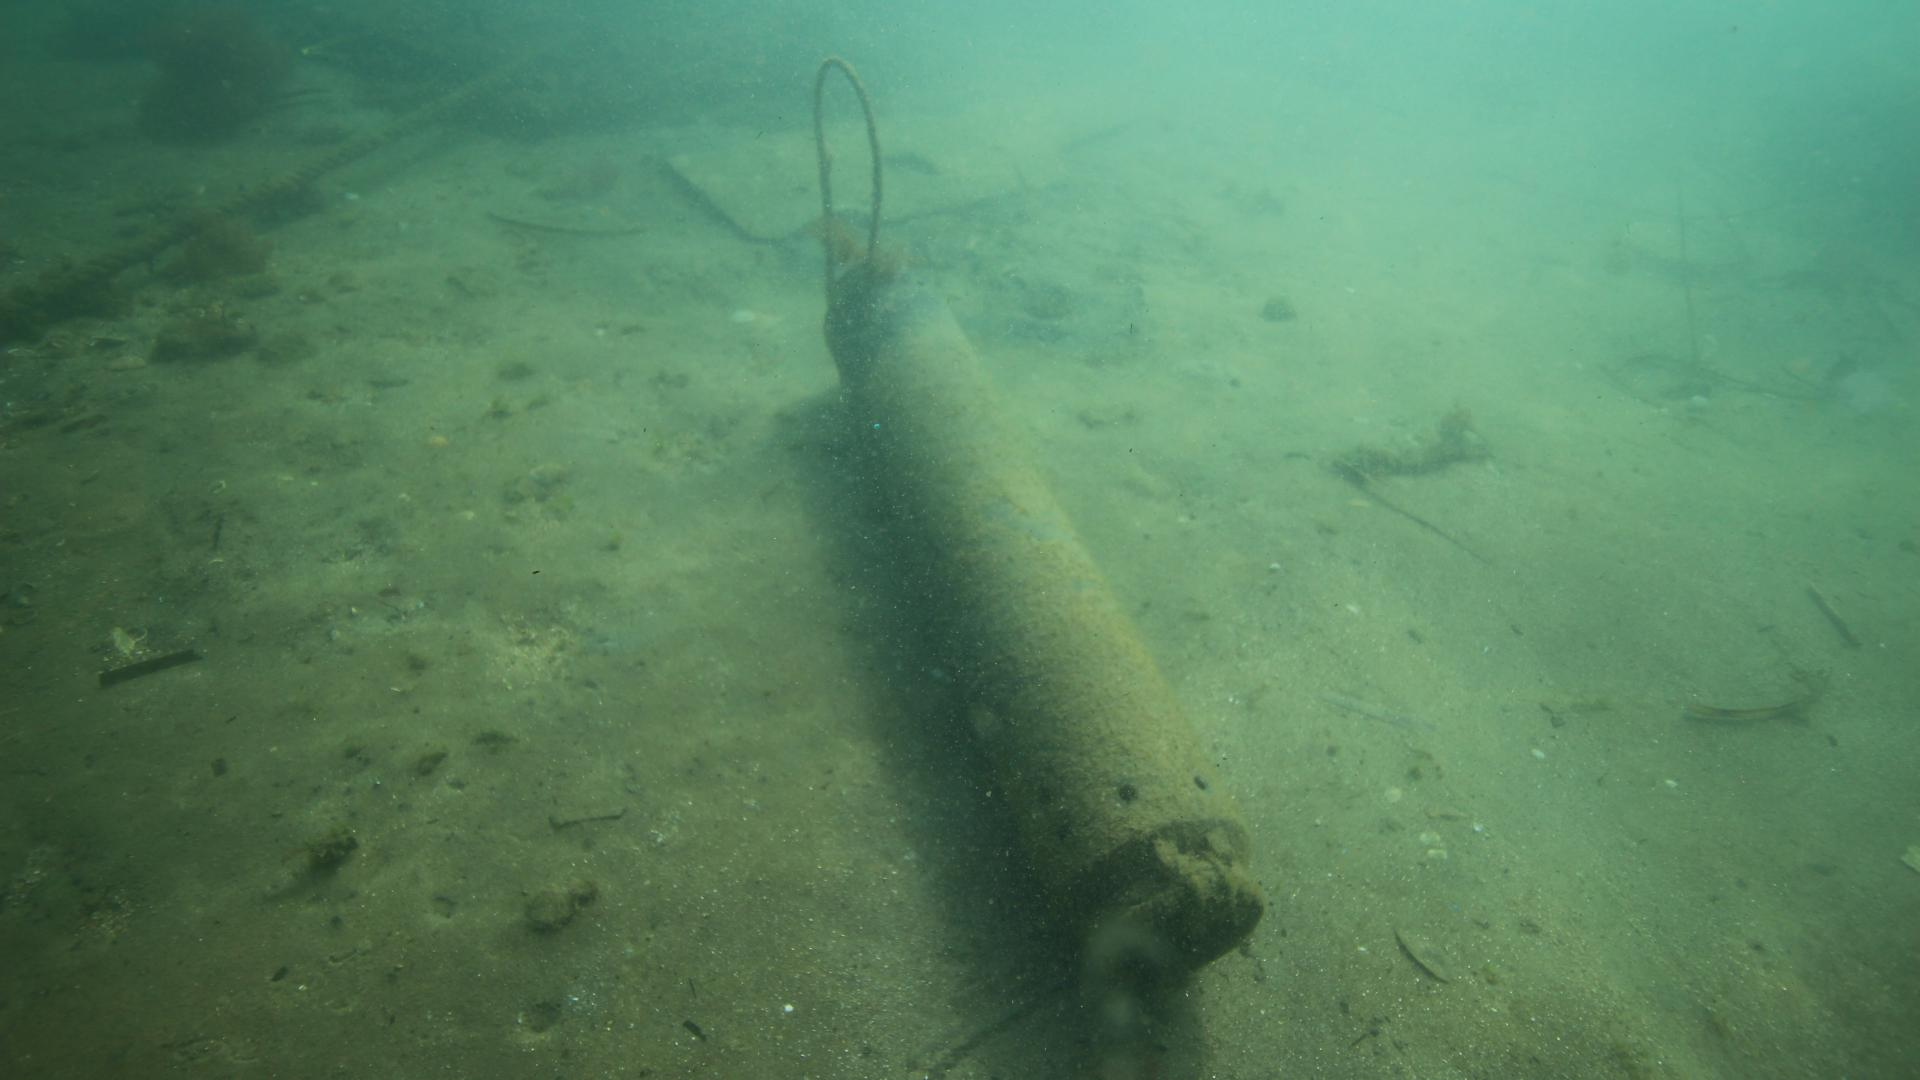eel fish trap: (810, 251, 1273, 997)
rope: (0, 74, 487, 328), (808, 55, 884, 309)
